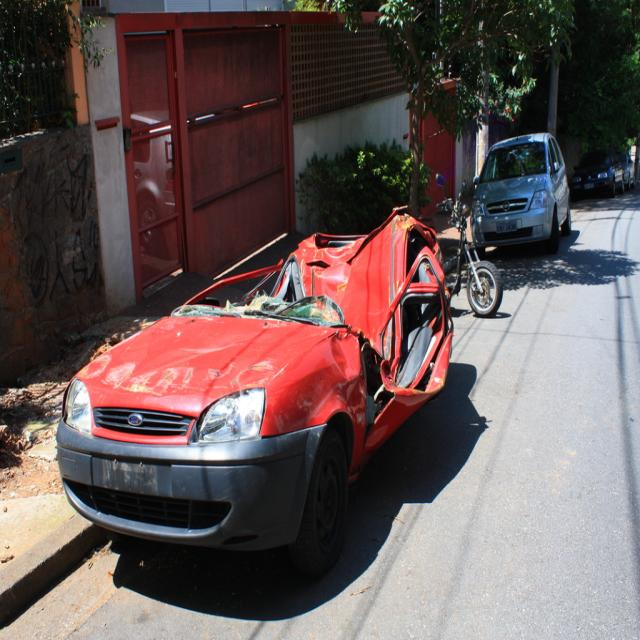car: (53, 199, 456, 588)
